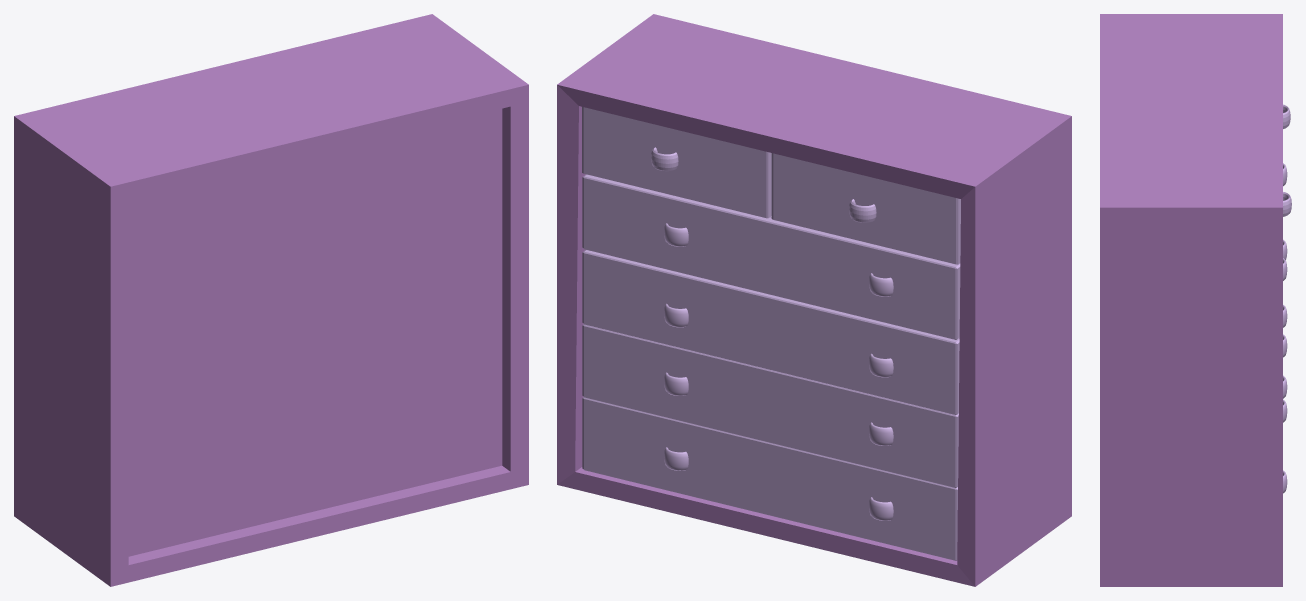
Rendered from tansu2.fbx.
3 views of the same model, side by side, from view 1: azimuth 30°, elevation 25°; view 2: azimuth 150°, elevation 25°; view 3: azimuth 270°, elevation 25° (orthographic). The views are drawn at different scales.
Visible parts, largest first — view 1: Cube; view 2: Cube, Torus.002, Torus.003, Torus.004, Torus.005, Torus.006, Torus; view 3: Cube.
Part boxes in pixels (x1,y1,x2,y2): Cube: (14,14,528,586); Cube: (557,14,1071,586); Torus.002: (582,174,960,339); Torus.003: (582,250,959,414); Torus.004: (582,324,958,487); Torus.005: (582,397,957,560); Torus.006: (582,107,771,218); Torus: (771,153,960,264); Cube: (1100,14,1282,586).
Bounding box in the file's own units: 167 × 153 × 70.09.
